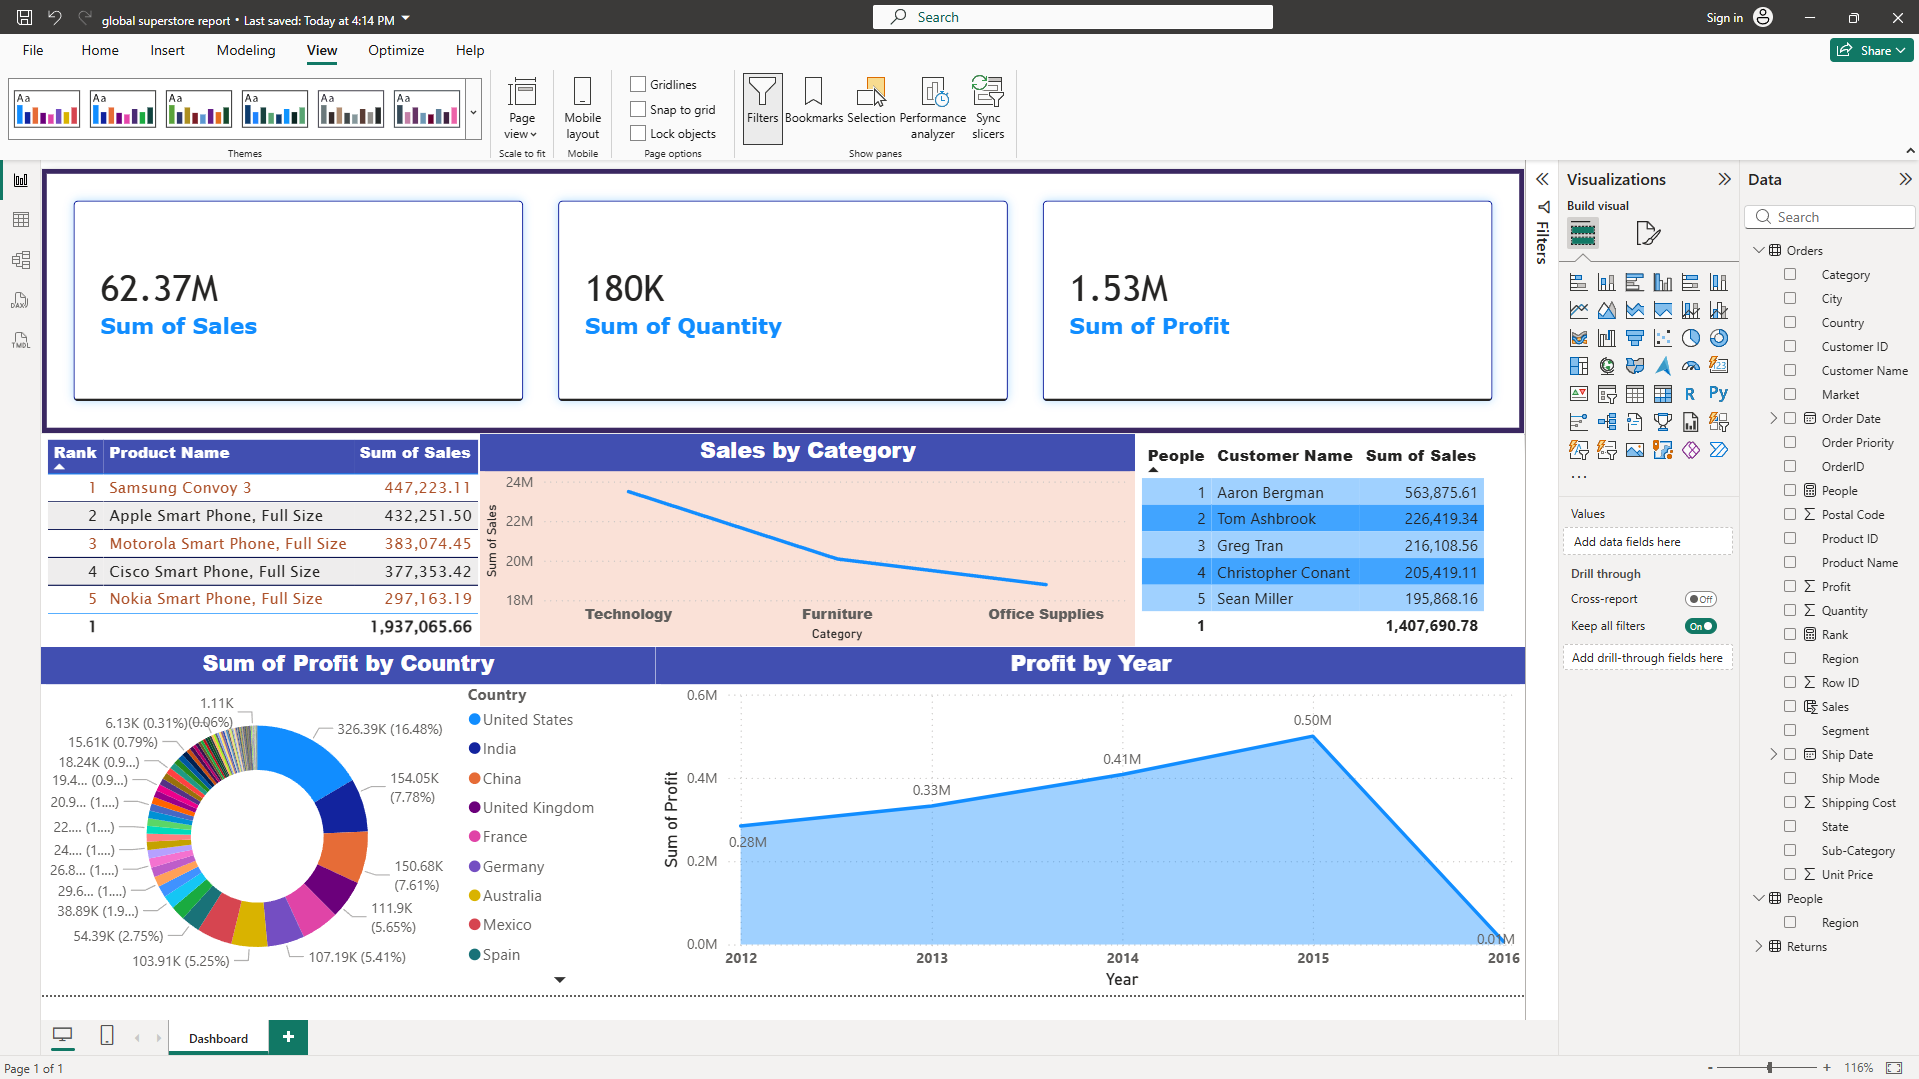

This screenshot's page, from the dashboard's own definition file:
{"tool":"powerbi","page":{"name":"Dashboard","canvas":[1280,720],"ordinal":0},"visuals":[{"type":"cardVisual","fields":{"Data":["Sum(Orders.Sales)","Sum(Orders.Quantity)","Sum(Orders.Profit)"]},"box":[0,6.8,1280,229.5],"z":0},{"type":"donutChart","fields":{"Category":["Orders.Country"],"Y":["Sum(Orders.Profit)"]},"box":[0,420.2,530.1,299.6],"z":1000},{"type":"tableEx","fields":{"Values":["Orders.Measure","Orders.Product Name","Sum(Orders.Sales)"]},"box":[0,236.6,389.6,183.4],"z":2000},{"type":"lineChart","title":" Profit by Year","fields":{"Y":["Sum(Orders.Profit)"],"Category":["Orders.Ship Date.Variation.Date Hierarchy.Year"]},"box":[530.1,420.2,749.9,299.6],"z":3000},{"type":"lineChart","title":"Sales by Category","fields":{"Y":["Sum(Orders.Sales)"],"Category":["Orders.Category"]},"box":[378.6,236.6,565.4,183.4],"z":4000},{"type":"tableEx","fields":{"Values":["Orders.People","Orders.Customer Name","Sum(Orders.Sales)"]},"box":[943.9,236.6,336.3,183.4],"z":4001}]}

Visuals, with their boxes on the page's 1280x720 design canvas (x1, y1, x2, y2). These are canvas units, not pixel positions in the 1919x1079 screenshot, which may show the page scaled, cropped or inside an application window:
cardVisual - Sum(Orders.Sales) x Sum(Orders.Quantity): (0,7,1280,236)
donutChart - Orders.Country x Sum(Orders.Profit): (0,420,530,720)
tableEx - Orders.Measure x Orders.Product Name: (0,237,390,420)
" Profit by Year" lineChart: (530,420,1280,720)
"Sales by Category" lineChart: (379,237,944,420)
tableEx - Orders.People x Orders.Customer Name: (944,237,1280,420)
